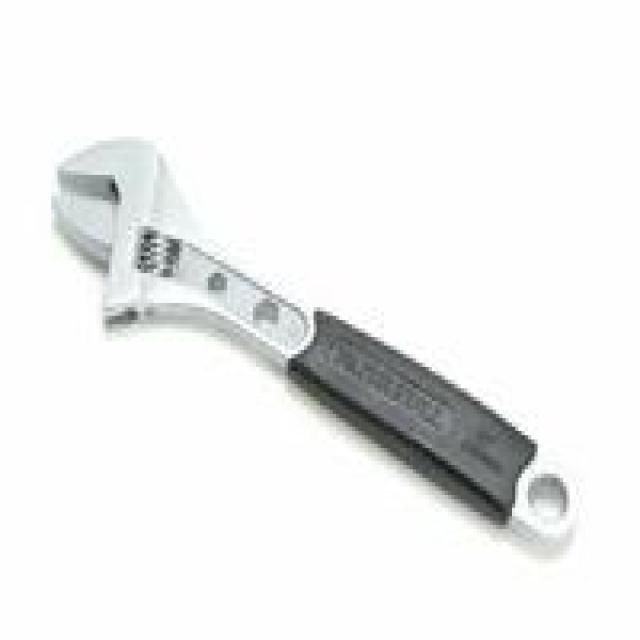wrench: (41, 127, 588, 565)
